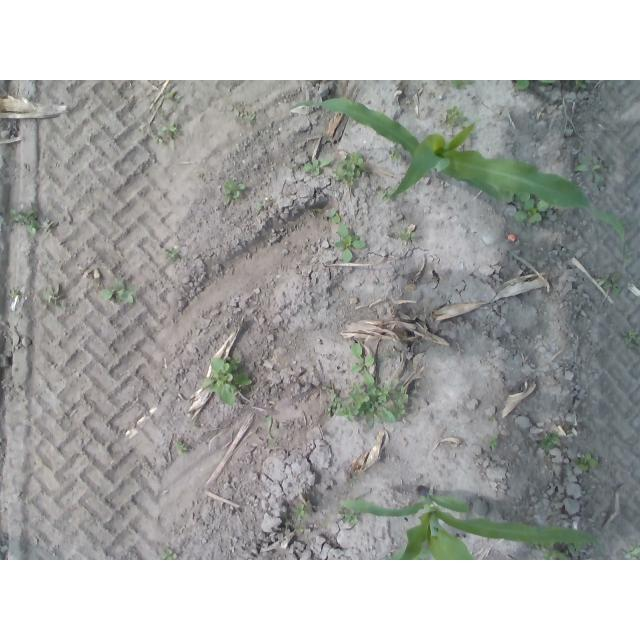Maize: (293, 95, 626, 266), (338, 488, 599, 561)
Weeds: (323, 379, 409, 429), (200, 354, 253, 407), (503, 191, 549, 226), (575, 153, 616, 187), (334, 225, 367, 264), (349, 342, 376, 386), (336, 152, 369, 186), (99, 280, 137, 305), (8, 208, 40, 235), (284, 504, 309, 535), (151, 122, 182, 144), (221, 178, 246, 204), (300, 157, 333, 176), (595, 272, 621, 295), (572, 452, 600, 472), (40, 288, 65, 309), (618, 538, 640, 560), (514, 81, 557, 92), (539, 432, 562, 452), (233, 107, 256, 125), (444, 107, 465, 126), (264, 416, 276, 448), (543, 548, 572, 560), (338, 508, 358, 525), (380, 184, 401, 200), (621, 330, 640, 347), (160, 247, 180, 262), (399, 228, 416, 244), (458, 121, 476, 136), (450, 81, 474, 92), (529, 541, 555, 551), (159, 548, 178, 561), (566, 542, 584, 555), (174, 441, 189, 456), (165, 89, 183, 101), (327, 211, 342, 225), (488, 434, 499, 451), (387, 150, 401, 162), (573, 80, 588, 89), (10, 290, 19, 298), (349, 478, 358, 484), (257, 203, 263, 210), (374, 282, 382, 287), (198, 173, 204, 179)
